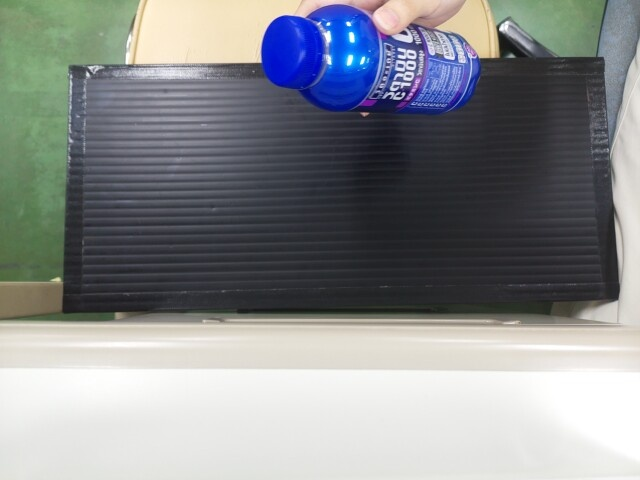plastic_bottle: (262, 5, 478, 114)
